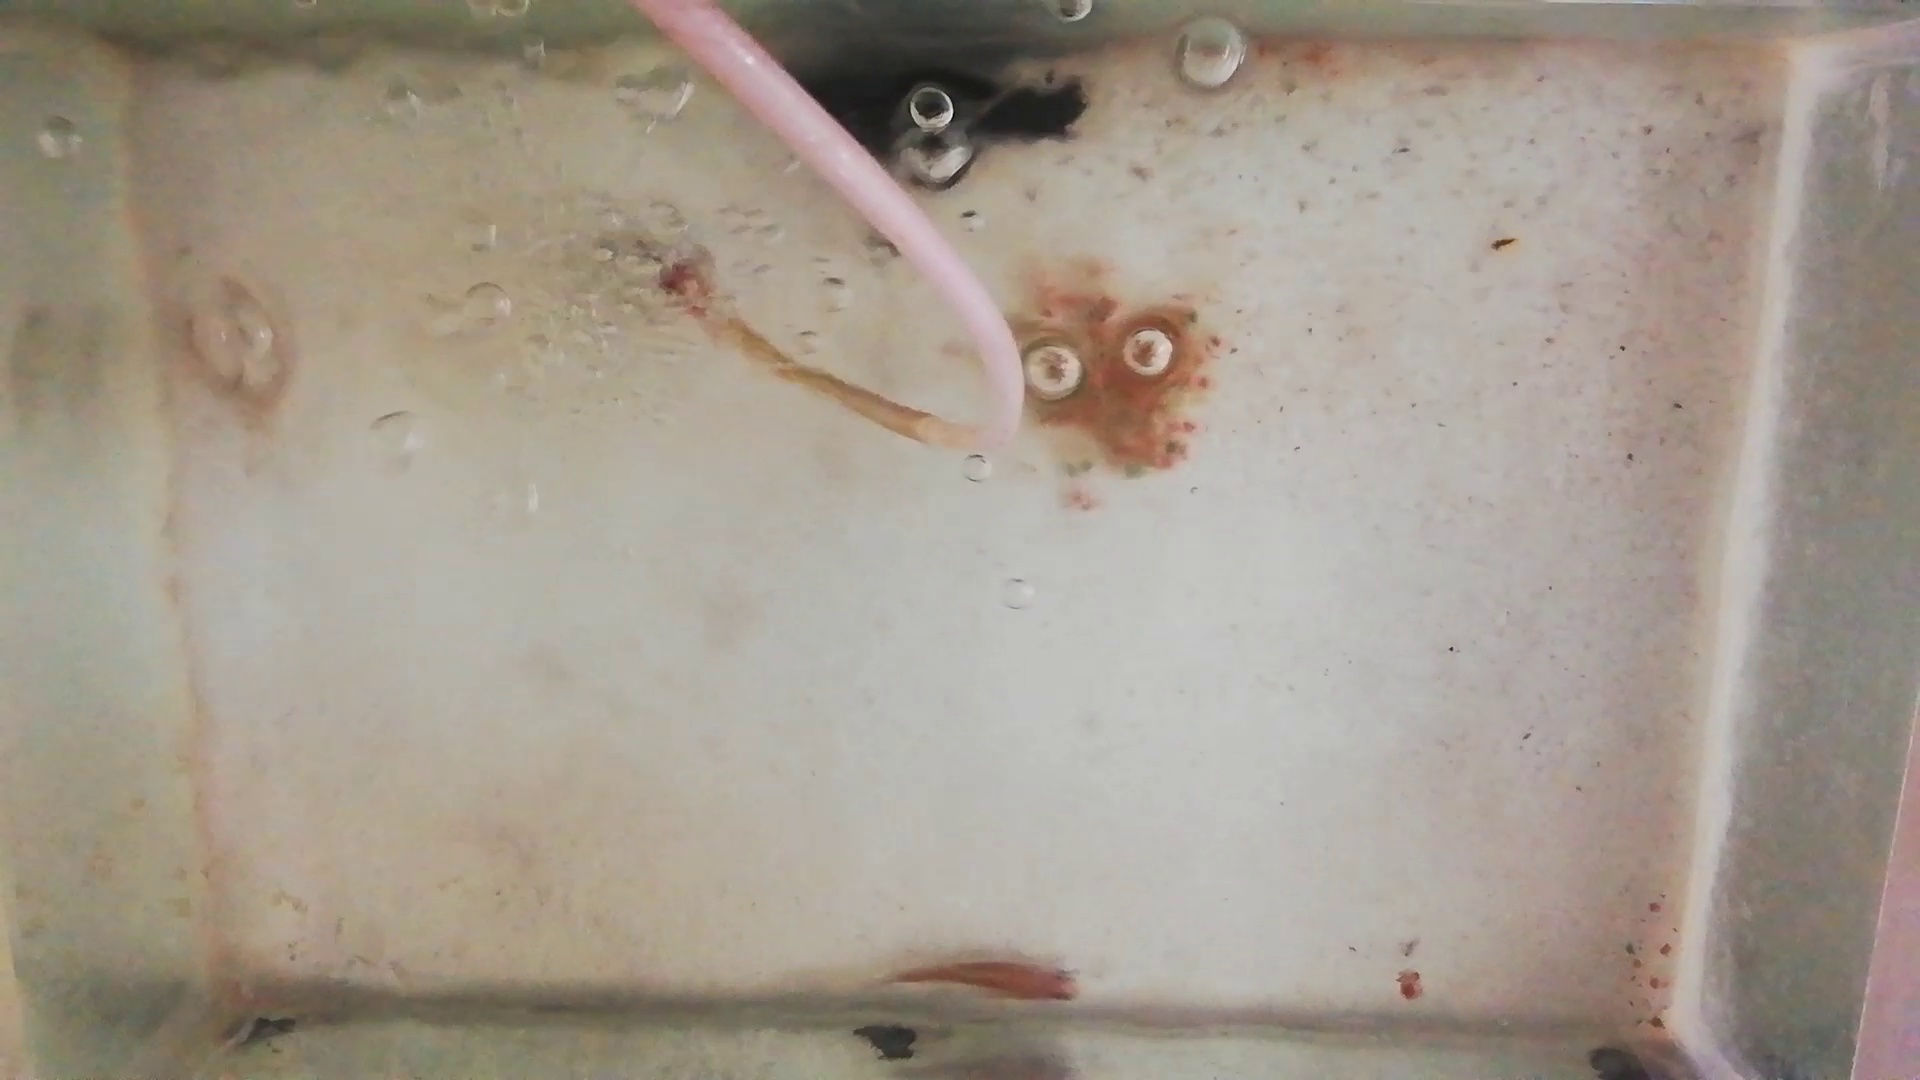fish: (187, 276, 280, 423), (887, 959, 1083, 1006)
